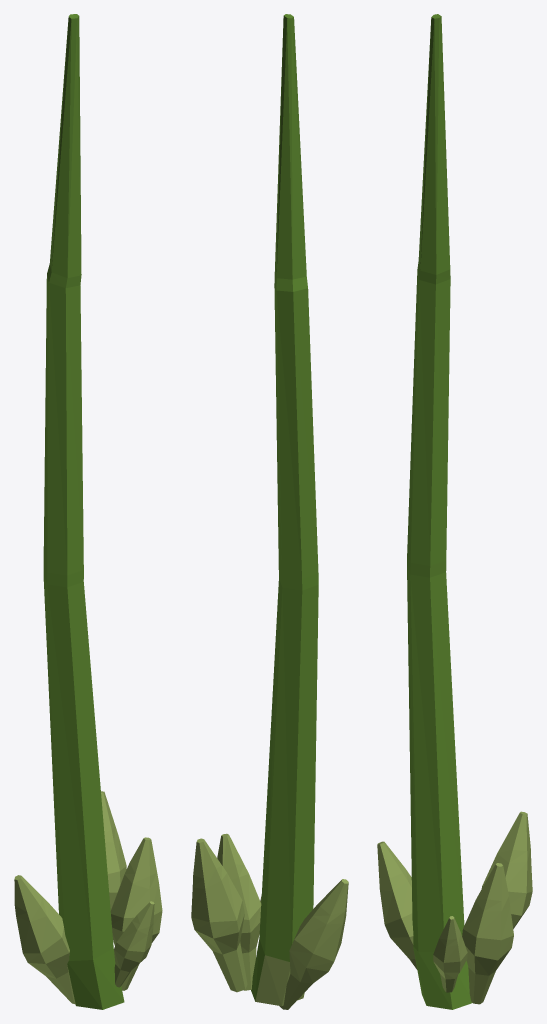
File: bamboo2.obj
3 renders of one model, left to right at view 1: azimuth 30°, elevation 25°; view 2: azimuth 150°, elevation 25°; view 3: azimuth 330°, elevation 25°, orthographic.
Bounding box in the file's own units: 2.03 × 14.05 × 1.74.
